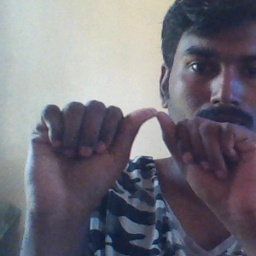A: (68, 92, 238, 204)
